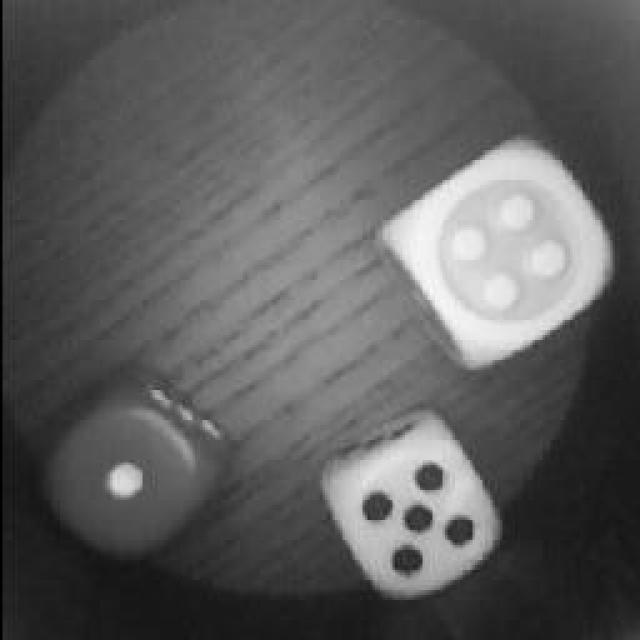dice_1: (28, 370, 230, 578)
dice_4: (385, 132, 617, 368)
dice_5: (320, 413, 502, 605)
